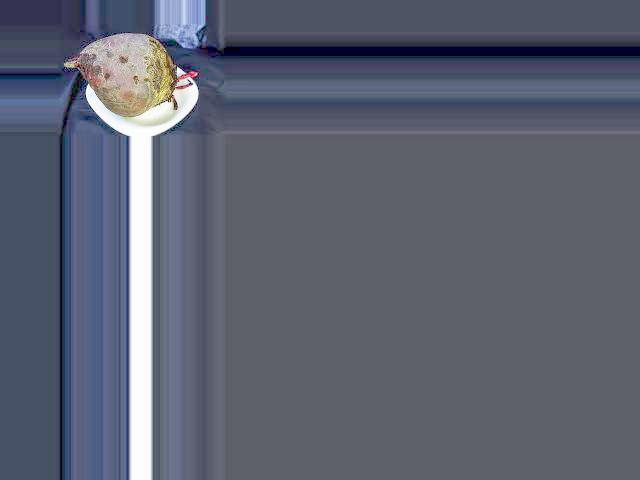beet: (64, 34, 198, 117)
